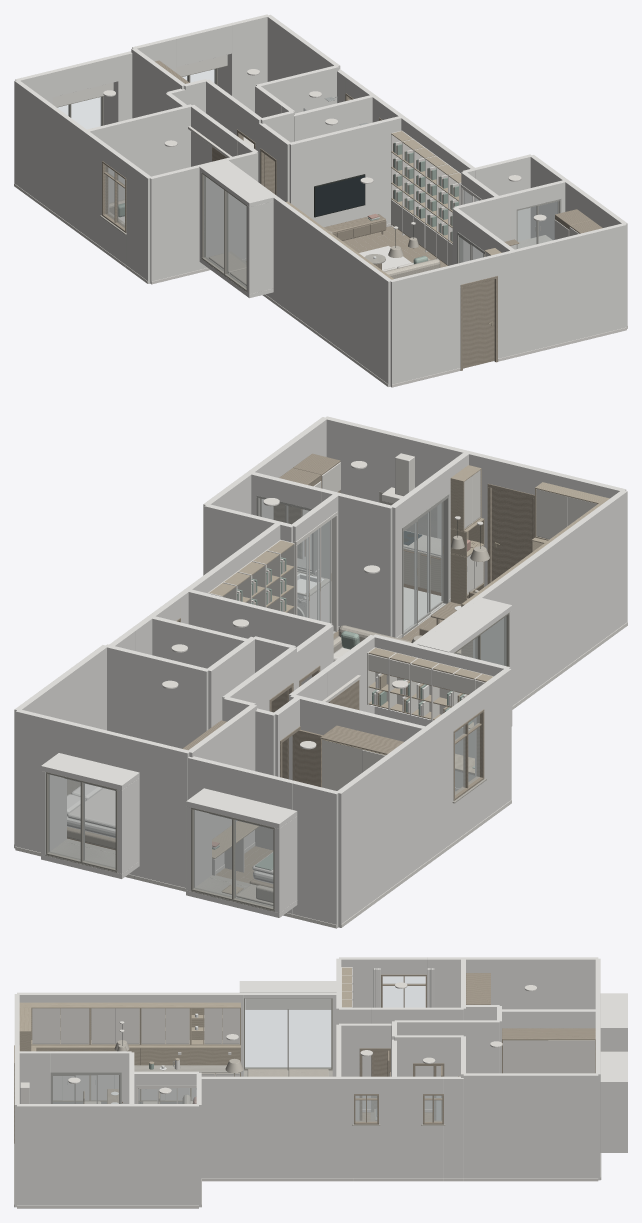
File: huiyayuan-wood.glb
3 views of the same model, one above another, from view 1: azimuth 30°, elevation 25°; view 2: azimuth 150°, elevation 25°; view 3: azimuth 270°, elevation 25° (orthographic). The views are drawn at different scales.
Visible parts, largest first — view 1: Wall 04 / pier.001, Wall 03 / pier.001, Wall 01 / pier, Wall 23 / pier, Wall 04 / pier, Wall 02 / pier, Wall 15 / pier, Wall 00 / pier.003, Wall 05 / pier, Wall 01 / pier.001, entry_door / oak door leaf, Wall 07 / pier (+37 smaller); view 2: Wall 03 / pier.001, Wall 01 / pier, Wall 20 / pier, Wall 10 / pier, Wall 04 / pier.001, Wall 00 / pier.002, Wall 00 / pier, Wall 00 / pier.003, Wall 07 / pier, Wall 23 / pier, Wall 01 / pier.001, Wall 05 / pier (+63 smaller); view 3: Wall 05 / pier, Wall 07 / pier.003, Wall 07 / pier, Wall 01 / pier, Wall 07 / pier.002, Wall 03 / pier.001, window_living_west / bay clear glazing panel.001, Wall 14 / pier, window_living_west / bay clear glazing panel, Wall 07 / pier.001, Wall 12 / pier, window_a / bay solid return.001 (+58 smaller).
Boxes of the visible parts, x1,y1,x2,y2 form: Wall 04 / pier.001: (495,223,626,358); Wall 03 / pier.001: (271,195,392,386); Wall 01 / pier: (14,80,106,247); Wall 23 / pier: (289,115,402,227); Wall 04 / pier: (390,263,460,387); Wall 02 / pier: (150,159,225,284); Wall 15 / pier: (85,104,192,202); Wall 00 / pier.003: (229,14,268,112); Wall 05 / pier: (530,155,627,328); Wall 01 / pier.001: (126,161,151,283); entry_door / oak door leaf: (463,279,494,368); Wall 07 / pier: (266,14,340,81); Wall 03 / pier.001: (473,490,627,705); Wall 01 / pier: (336,710,453,927); Wall 20 / pier: (104,644,209,748); Wall 10 / pier: (322,489,393,636); Wall 04 / pier.001: (324,416,490,586); Wall 00 / pier.002: (135,738,190,887); Wall 00 / pier: (292,781,339,928); Wall 00 / pier.003: (15,709,66,852); Wall 07 / pier: (14,645,106,848); Wall 23 / pier: (186,589,332,684); Wall 01 / pier.001: (478,668,511,819); Wall 05 / pier: (203,417,326,575); Wall 05 / pier: (17,1104,198,1205); Wall 07 / pier.003: (199,1076,353,1178); Wall 07 / pier: (463,1073,598,1178); Wall 01 / pier: (427,957,598,1009); Wall 07 / pier.002: (379,1076,422,1178); Wall 03 / pier.001: (17,992,243,1076); window_living_west / bay clear glazing panel.001: (245,1009,287,1067); Wall 14 / pier: (436,1020,499,1120); window_living_west / bay clear glazing panel: (289,1010,330,1067); Wall 07 / pier.001: (444,1076,463,1178); Wall 12 / pier: (499,1009,598,1028); window_a / bay solid return.001: (600,1085,627,1149).
Size of what is drawn, in the model's own units: 8.46 by 2.8 by 14.67.
23 materials, 4 textured.
